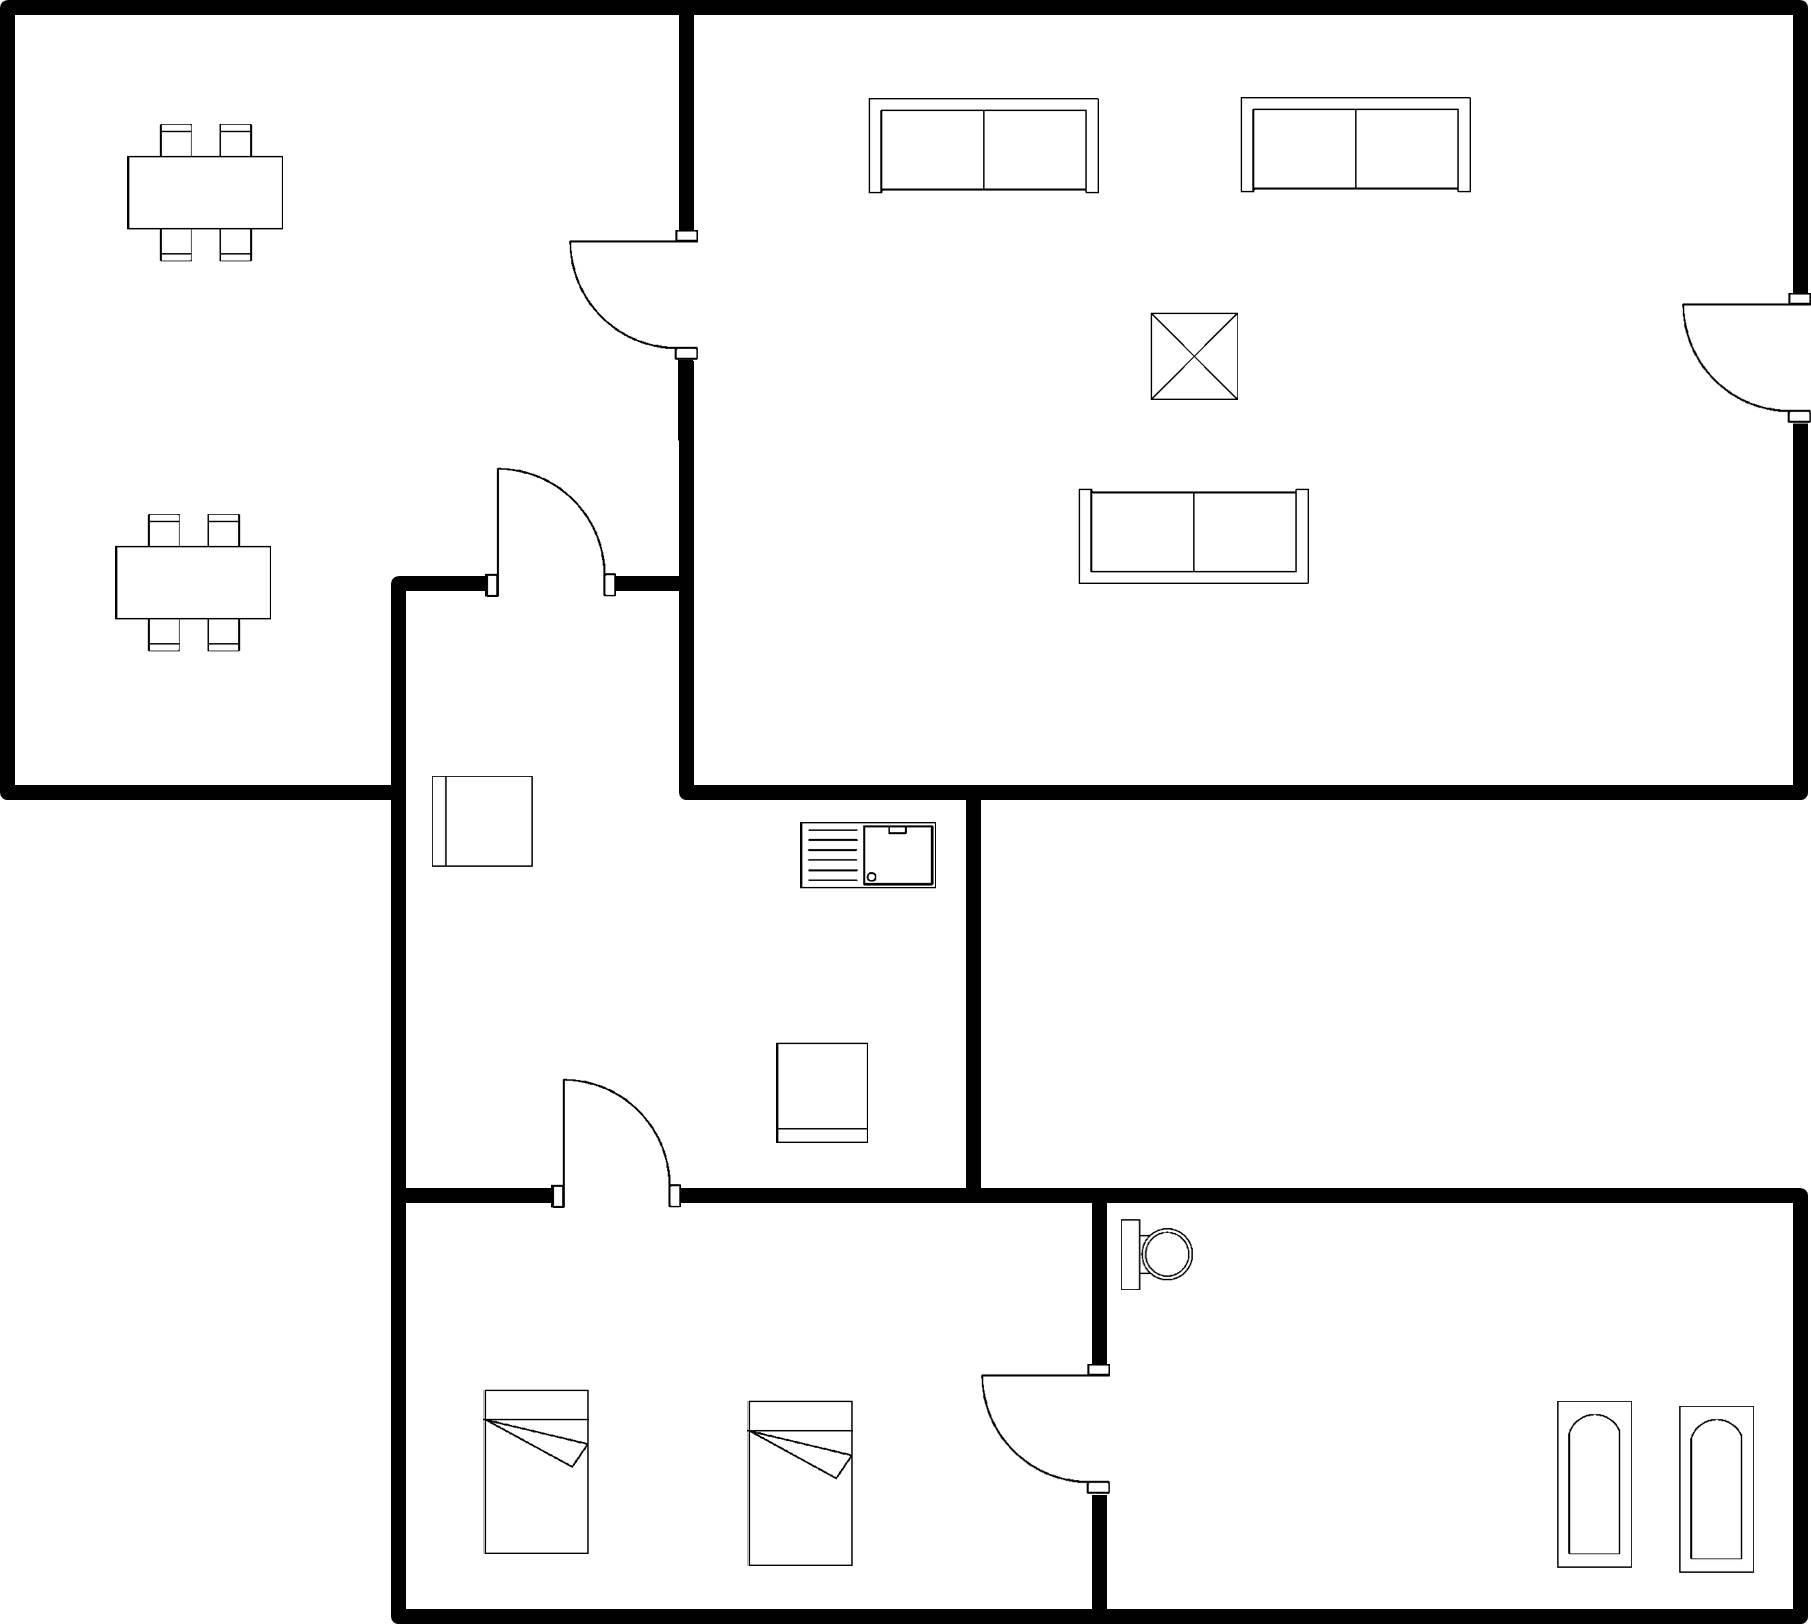bed: (472, 1375, 605, 1569), (732, 1386, 866, 1579)
dining_table: (111, 108, 296, 274), (100, 497, 282, 662)
sink: (786, 807, 945, 901)
sofa: (1062, 477, 1326, 599), (1228, 85, 1485, 207), (856, 85, 1110, 204)
toilet: (1112, 1201, 1206, 1301)
tub: (1660, 1394, 1767, 1585), (1543, 1386, 1645, 1579)
